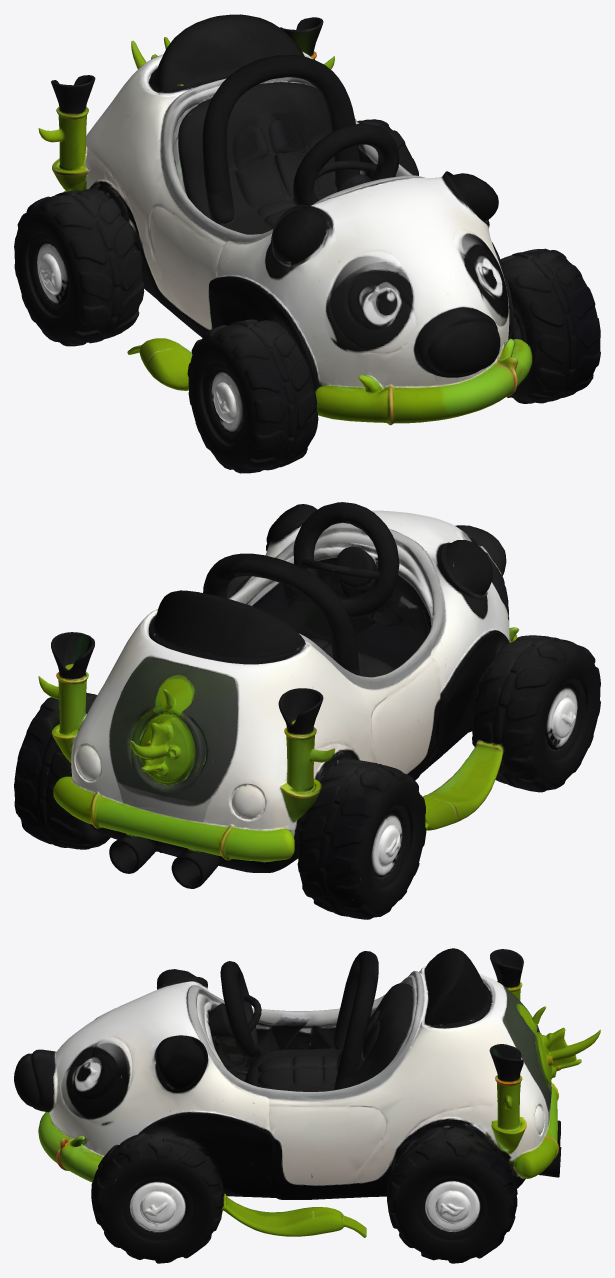
The model's file is kart_panda.glb.
The picture shows the model from 3 angles, top to bottom: view 1: azimuth 30°, elevation 25°; view 2: azimuth 150°, elevation 25°; view 3: azimuth 270°, elevation 25°; orthographic projection. The views are drawn at different scales.
Bounding box in the file's own units: 1.1 × 0.8496 × 1.9.
1 material, 1 textured.
